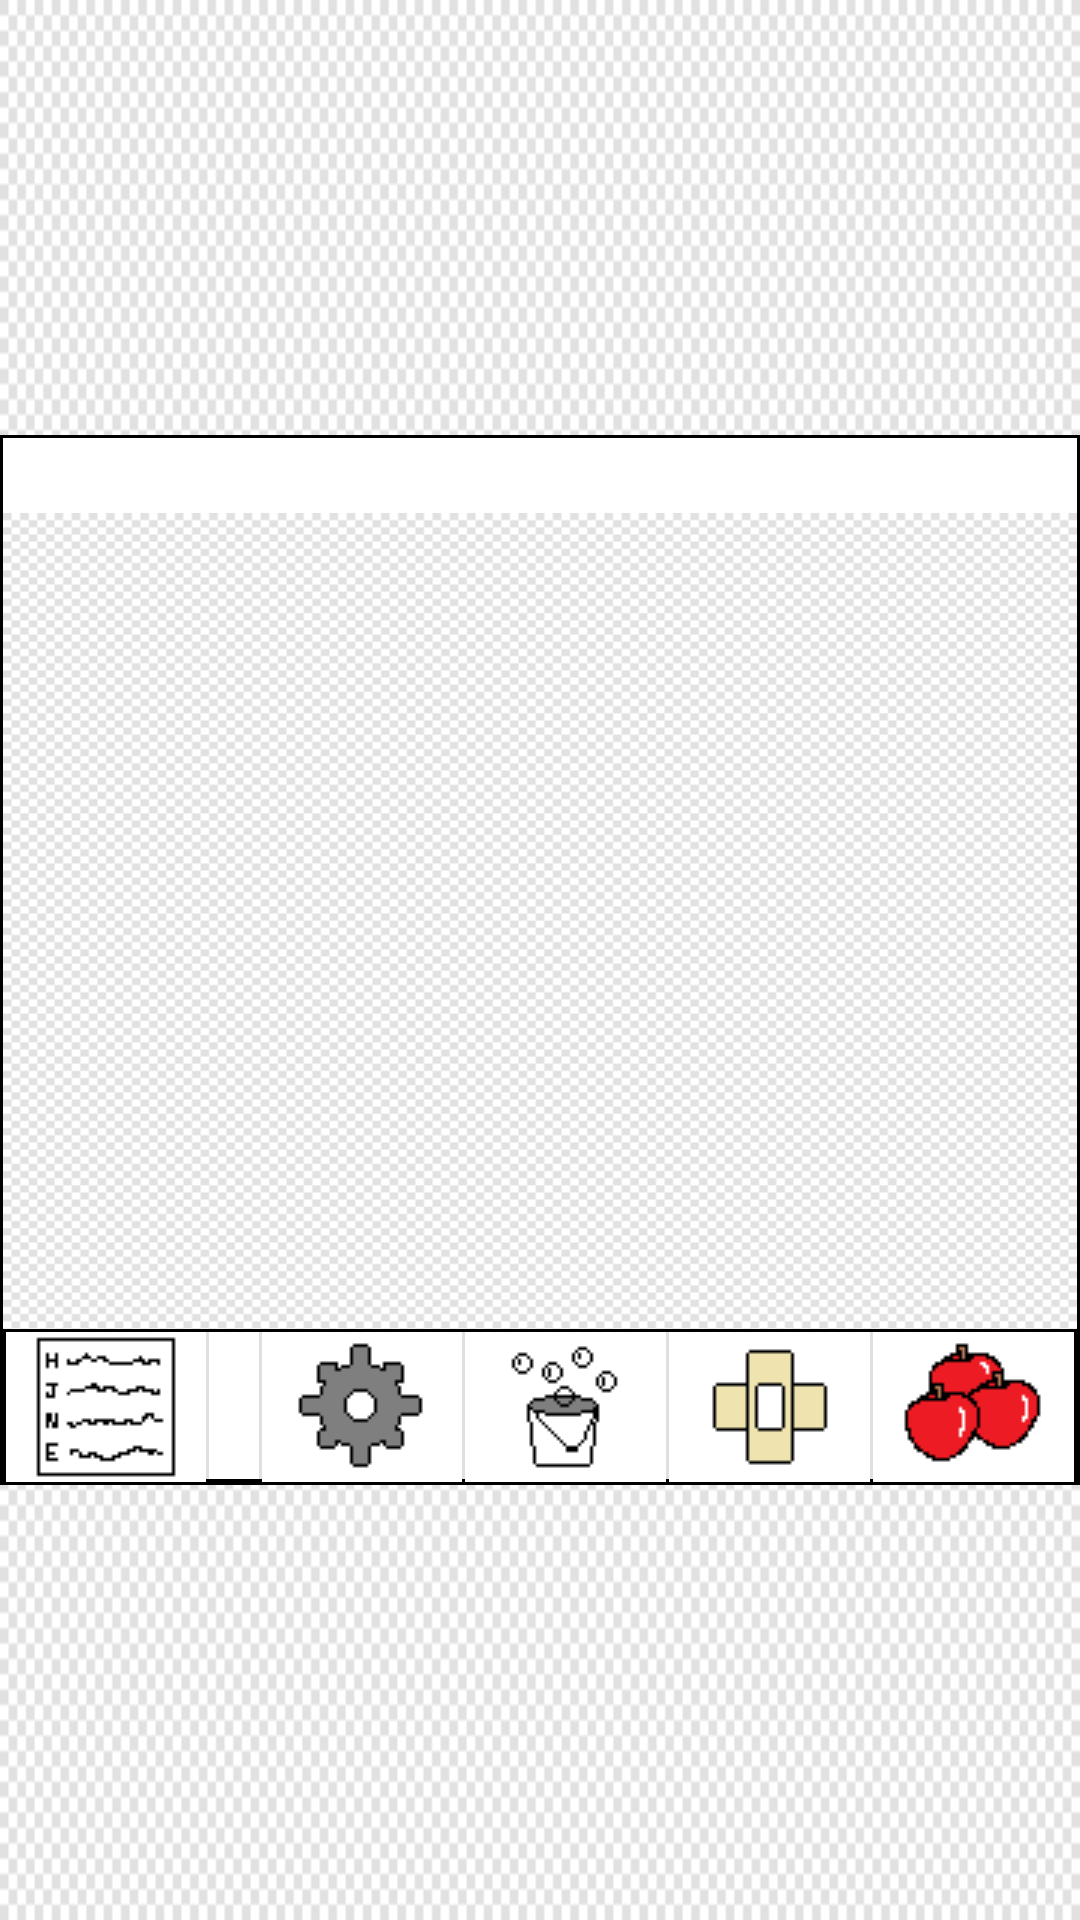

Icons on this 1080x1920 Android screen, each with the point to tap as (x=x, y=y):
clean: (x=564, y=1407)
feed: (x=973, y=1407)
heal: (x=770, y=1407)
options: (x=360, y=1405)
status: (x=106, y=1407)
